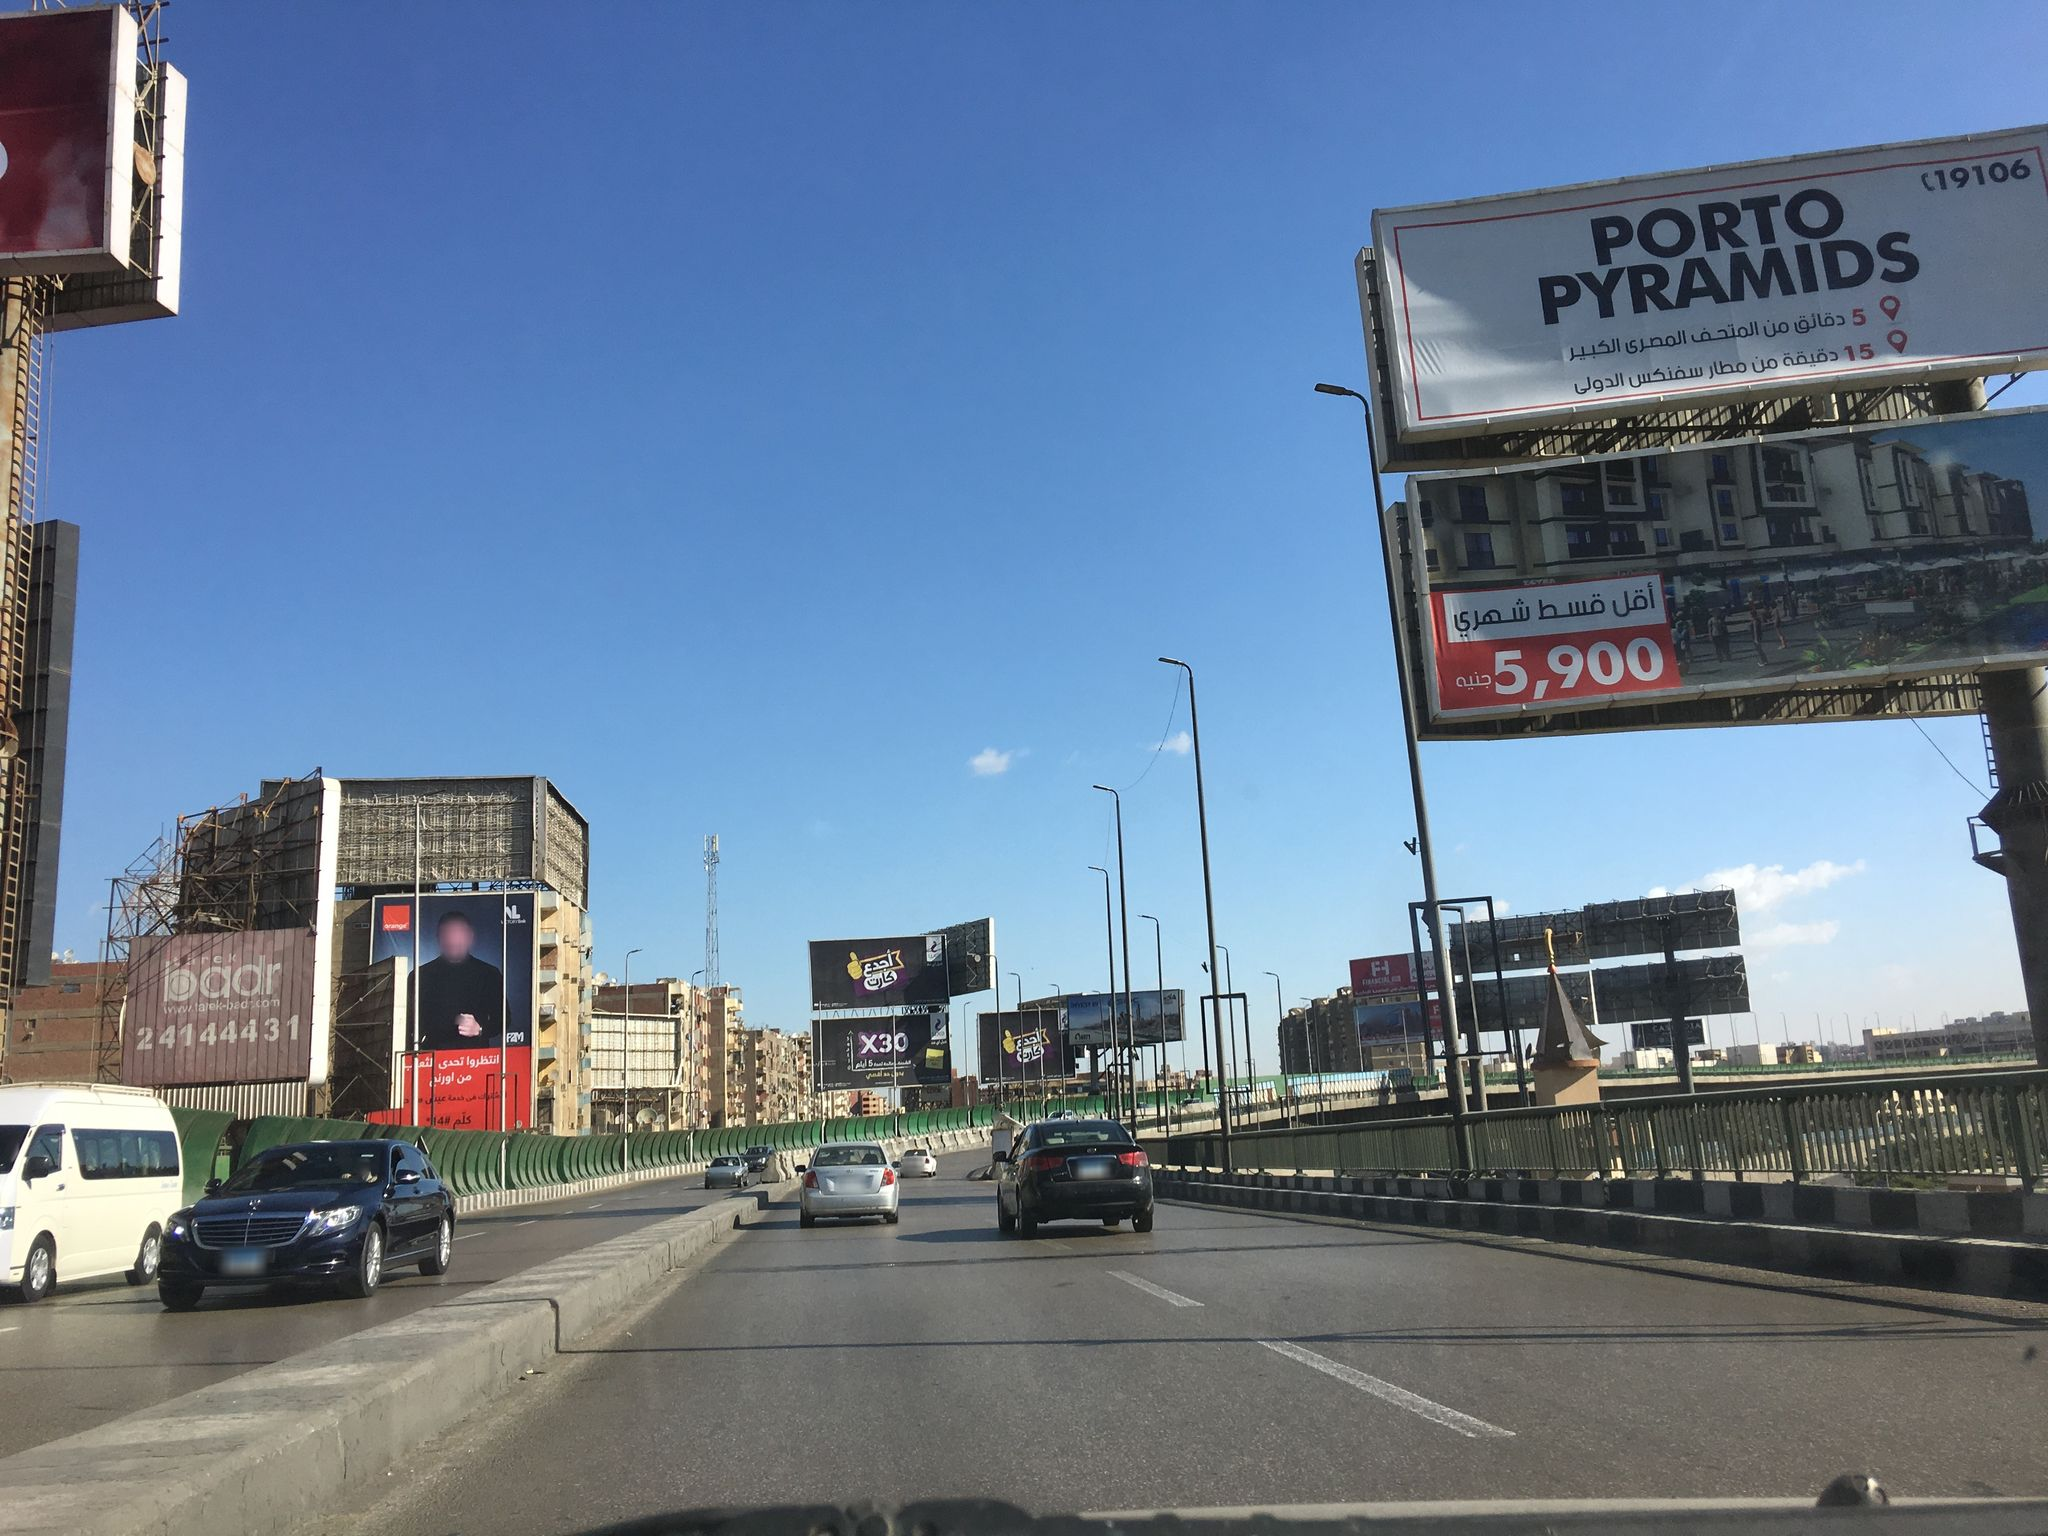car: (160, 1137, 458, 1297), (0, 1079, 185, 1294), (992, 1120, 1156, 1238), (793, 1142, 901, 1225), (701, 1154, 748, 1187), (900, 1149, 937, 1176), (742, 1146, 772, 1171)
